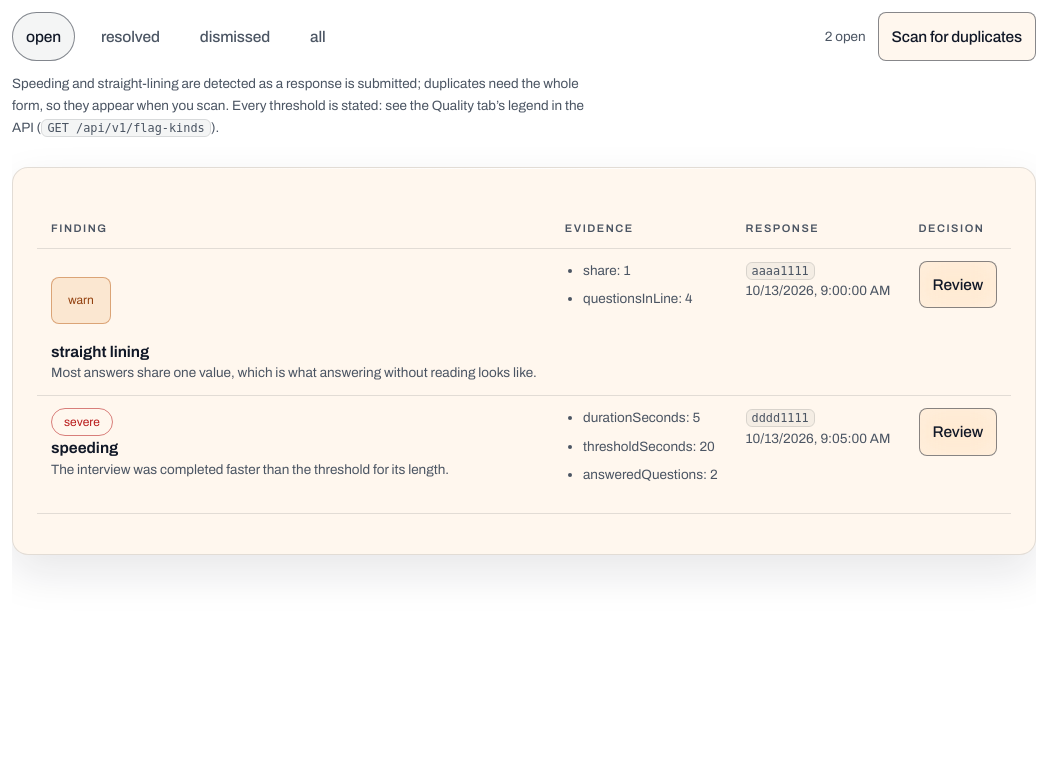
Test: the quality queue › runs the duplicate scan over the whole form and reports what it found
The width and height of the screenshot is (1048, 780).
Click the button "Scan for duplicates".
click(957, 37)  # box [878, 12, 1036, 61]
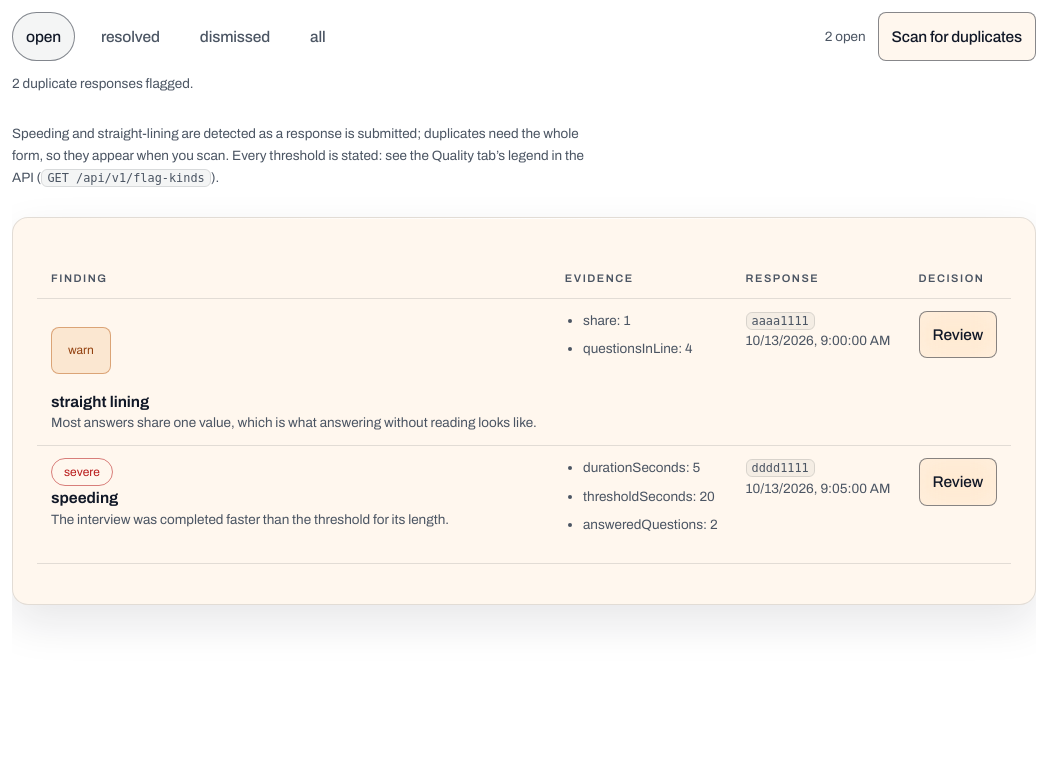
Now the text "2 duplicate responses flagged" is shown, box [12, 76, 194, 91]
Click the button "Scan for duplicates".
click(957, 37)  # box [878, 12, 1036, 61]
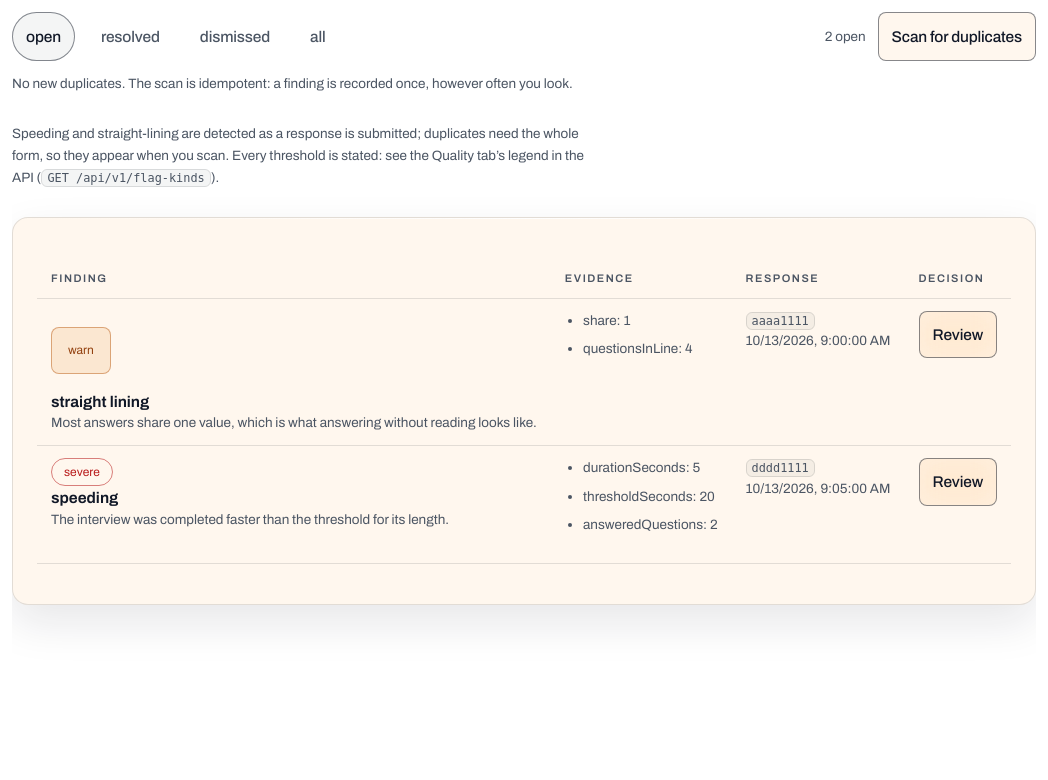
Now the text "No new duplicates" is shown, box [12, 76, 573, 91]
